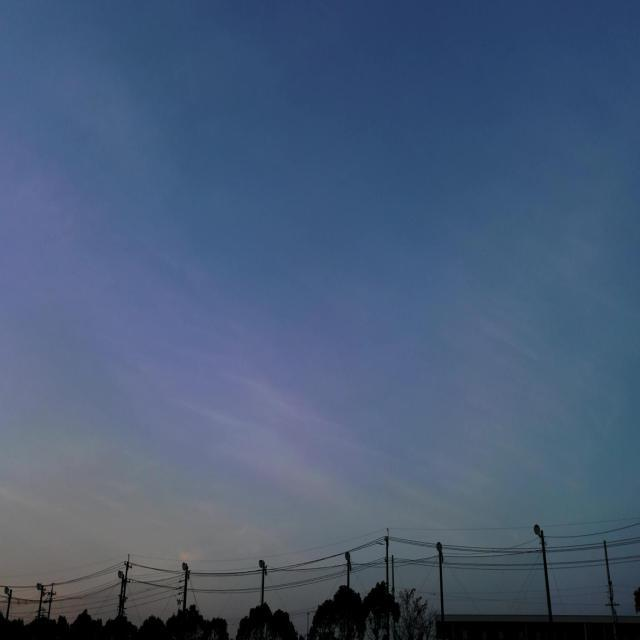Birds: (374, 538, 386, 548)
